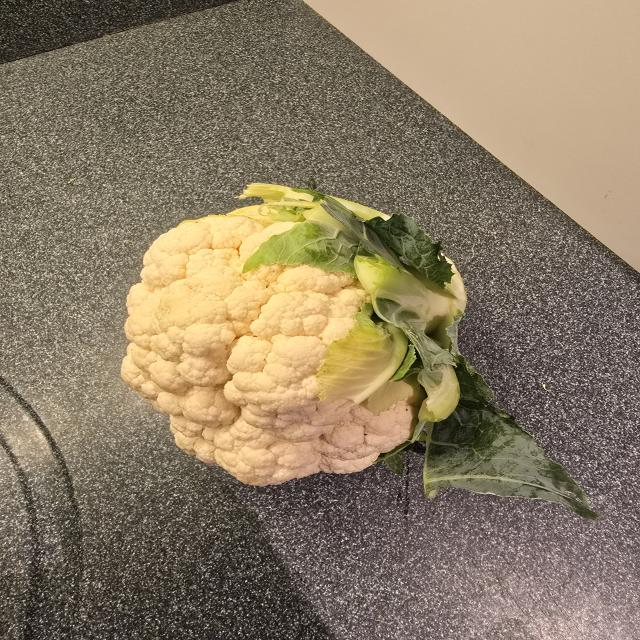Cauliflower: (101, 169, 486, 498)
